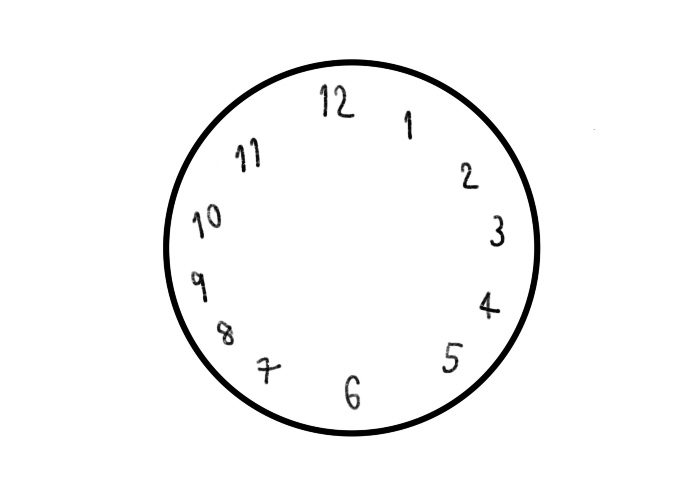eight: (213, 312, 239, 350)
eleven: (230, 136, 264, 173)
five: (439, 339, 466, 380)
four: (477, 284, 506, 325)
nine: (185, 261, 216, 306)
one: (401, 106, 419, 144)
seven: (252, 350, 285, 390)
six: (343, 372, 361, 413)
ten: (190, 201, 224, 242)
three: (487, 210, 511, 252)
twelve: (318, 82, 355, 121)
two: (457, 156, 481, 191)
